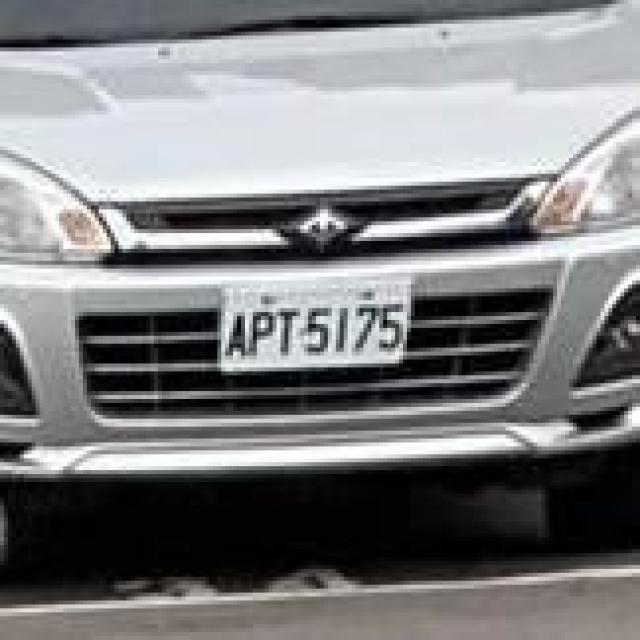W: (220, 275, 410, 366)
